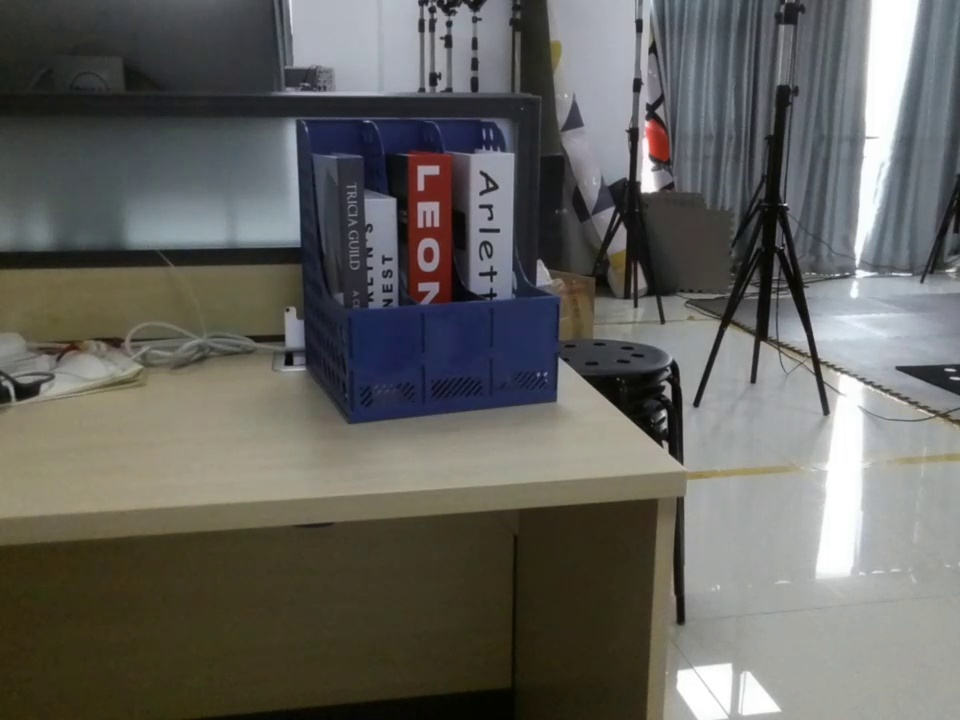files: (294, 113, 560, 424)
